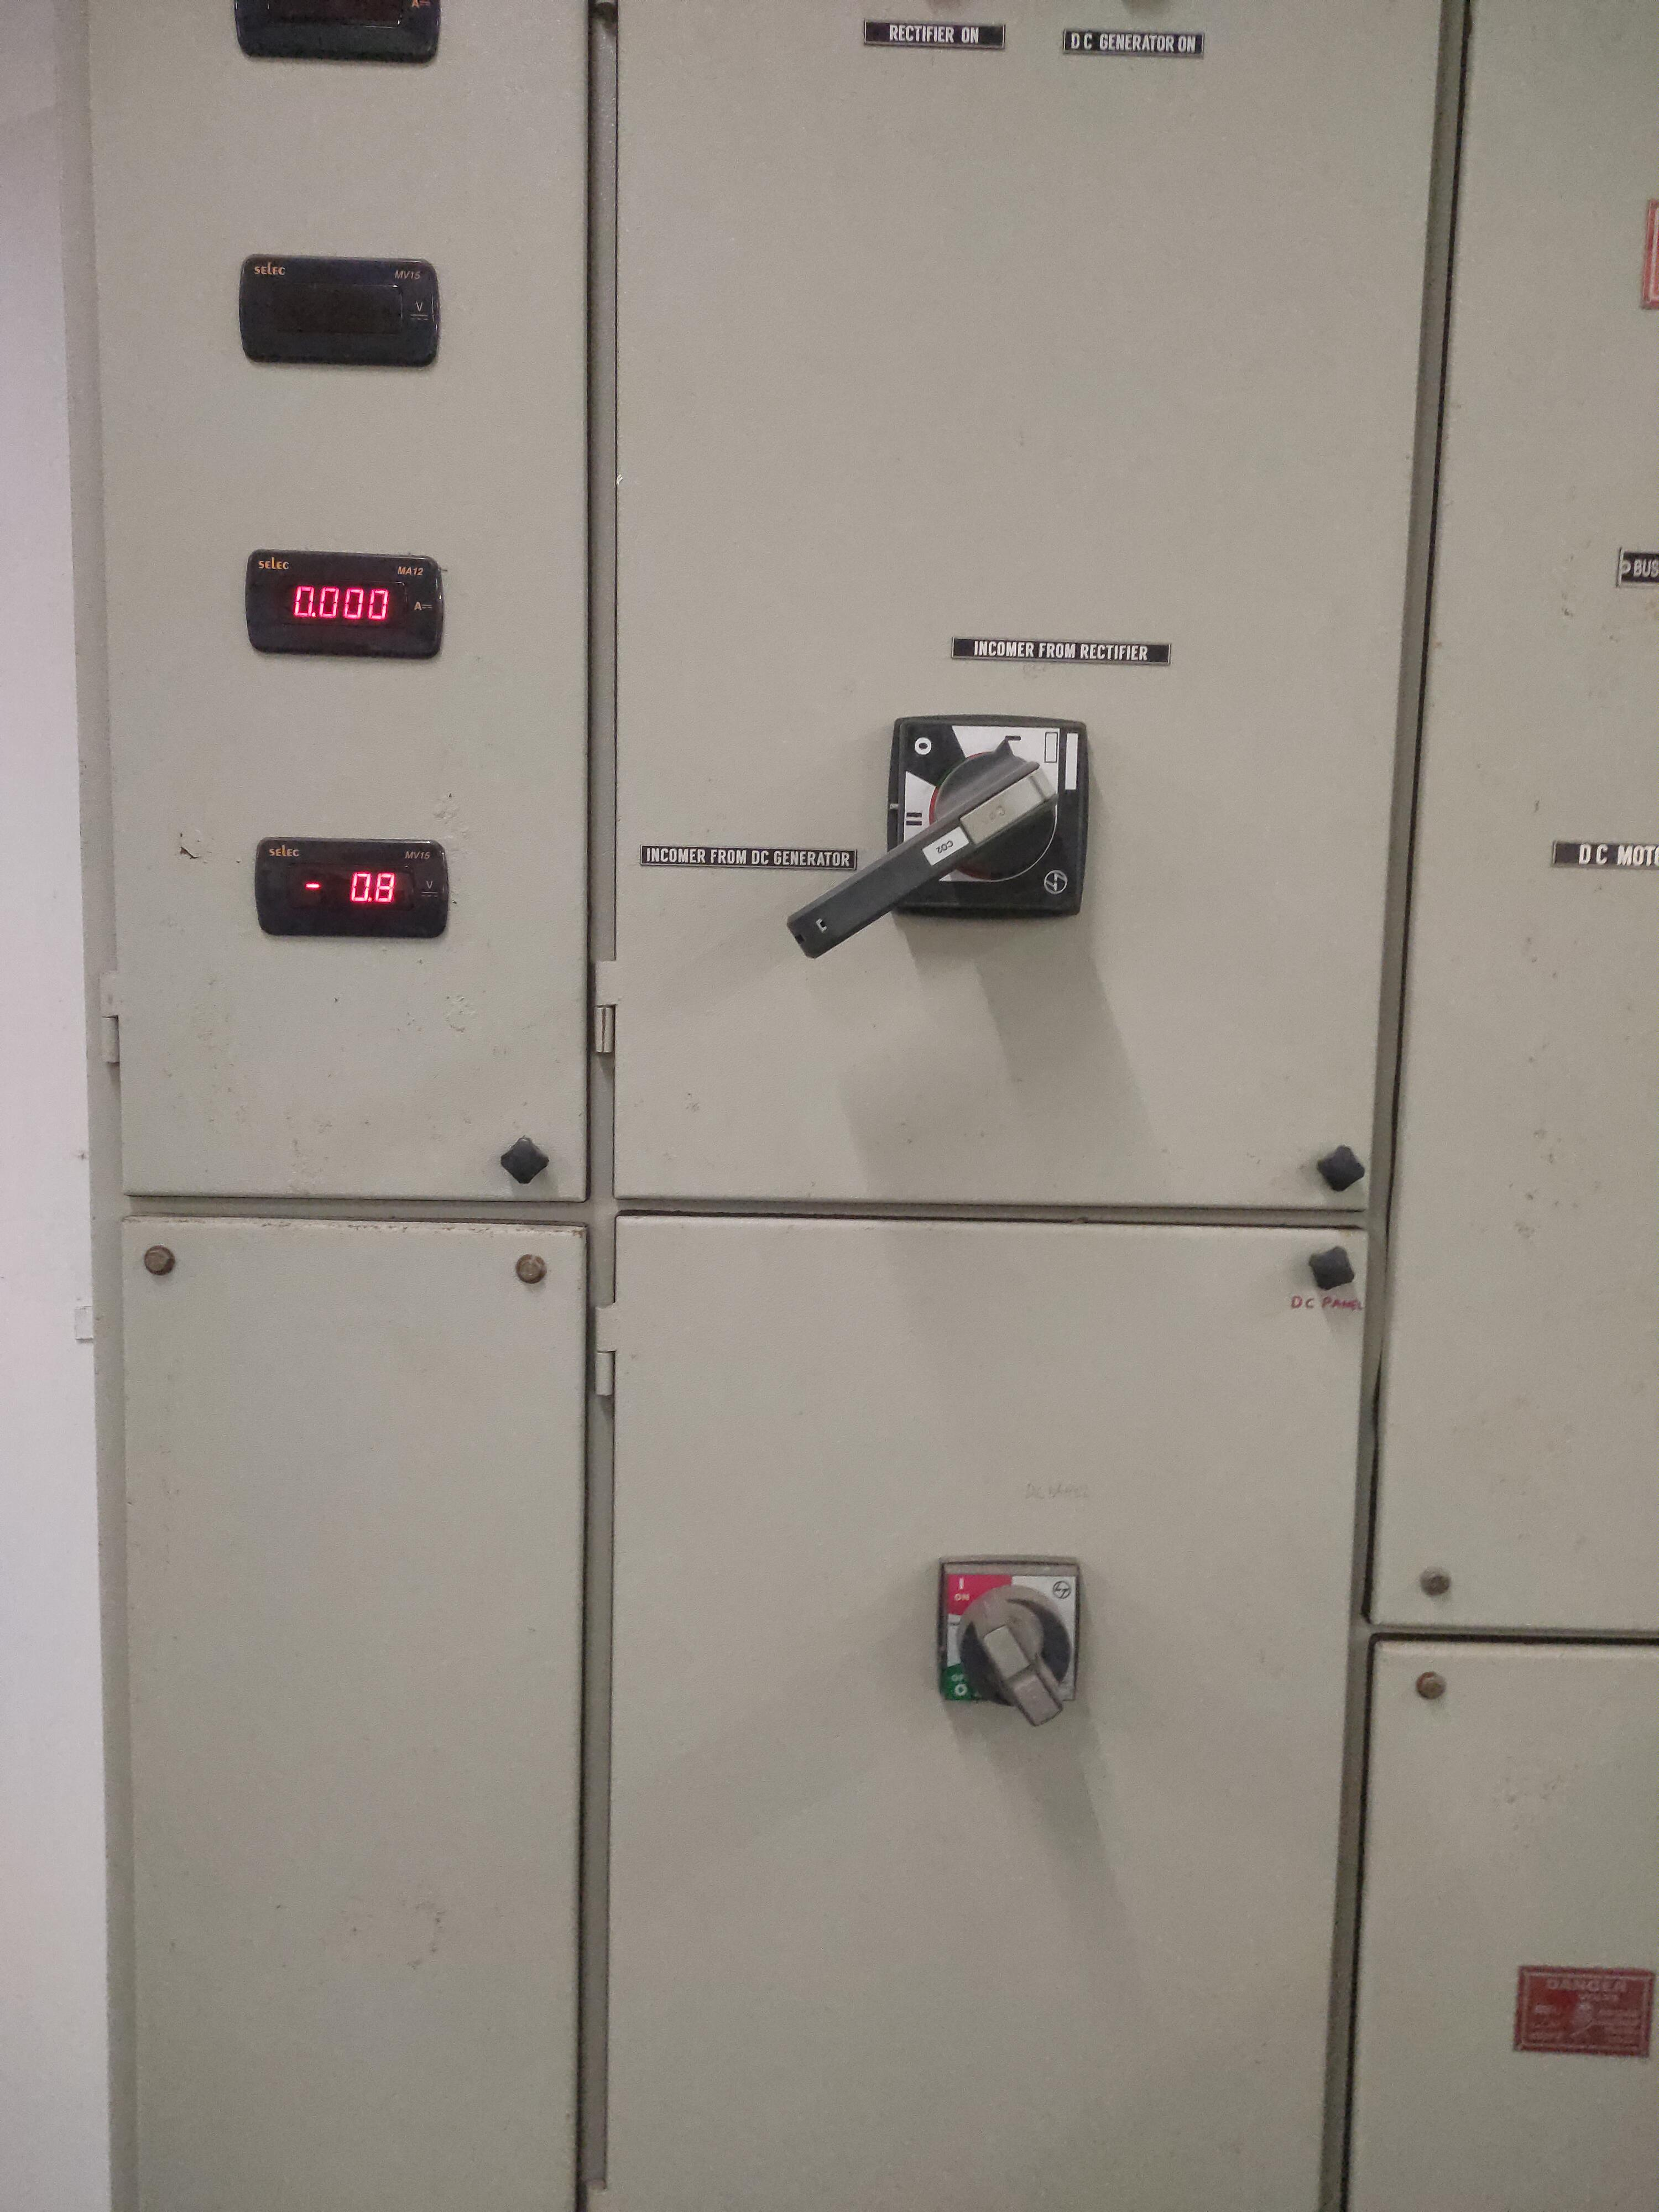Knob 1: (767, 665, 1115, 996)
Knob 2: (878, 1512, 1129, 1731)
